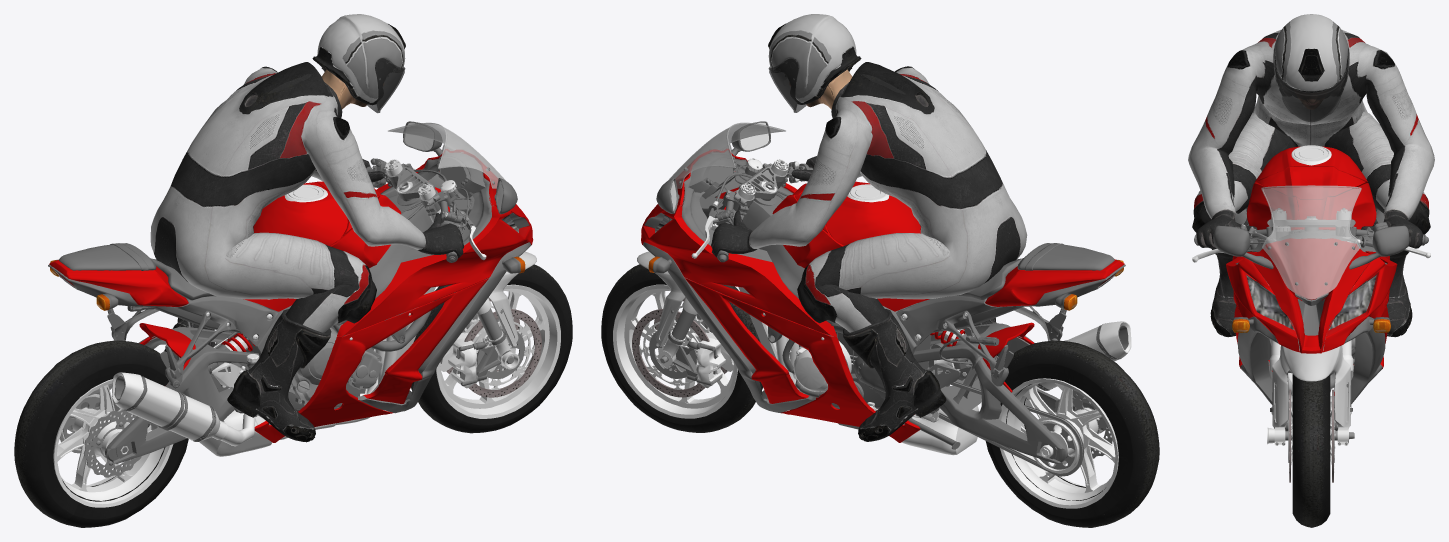
File: Motorcycle.glb
3 renders of one model, left to right at view 1: azimuth 30°, elevation 25°; view 2: azimuth 150°, elevation 25°; view 3: azimuth 270°, elevation 25°, orthographic.
Parts seen in each view (by area): view 1: Motuo, people, Motuo_Wheel; view 2: Motuo, people, Motuo_Wheel; view 3: people, Motuo, Motuo_Wheel.
Part boxes in pixels (x1=…): Motuo: x1=48, y1=121, x2=533, y2=463; people: x1=150, y1=14, x2=463, y2=442; Motuo_Wheel: x1=14, y1=158, x2=572, y2=527; Motuo: x1=641, y1=121, x2=1131, y2=476; people: x1=711, y1=14, x2=1027, y2=441; Motuo_Wheel: x1=601, y1=158, x2=1159, y2=527; people: x1=1188, y1=14, x2=1434, y2=337; Motuo: x1=1213, y1=145, x2=1409, y2=404; Motuo_Wheel: x1=1192, y1=208, x2=1430, y2=527.
Size of the model in its own units: 2 by 1.54 by 0.7855.
Materials: 26 (13 with a texture image).
